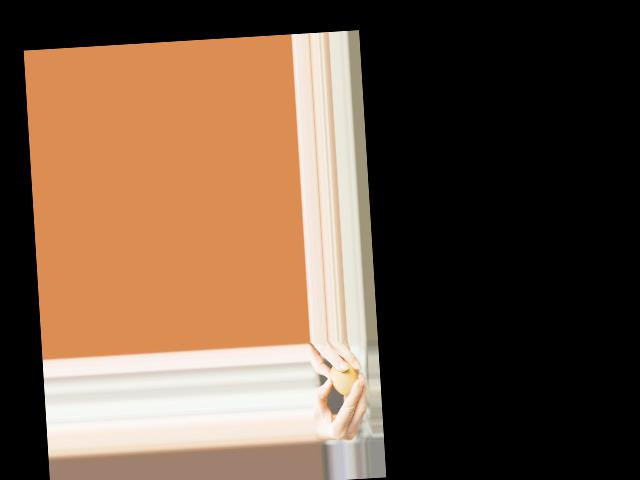egg: (329, 360, 359, 396)
